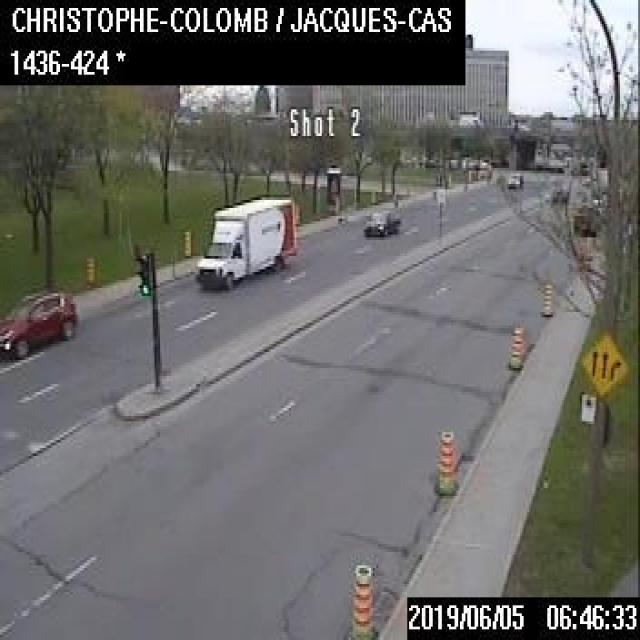construction: (346, 560, 377, 638), (433, 424, 456, 493), (506, 321, 524, 368), (539, 280, 553, 314), (84, 253, 95, 288), (181, 227, 191, 256)
vehicle: (192, 190, 294, 286), (0, 288, 76, 360), (361, 207, 400, 236), (572, 200, 598, 233), (549, 179, 569, 200), (466, 154, 491, 169), (506, 171, 522, 187)
